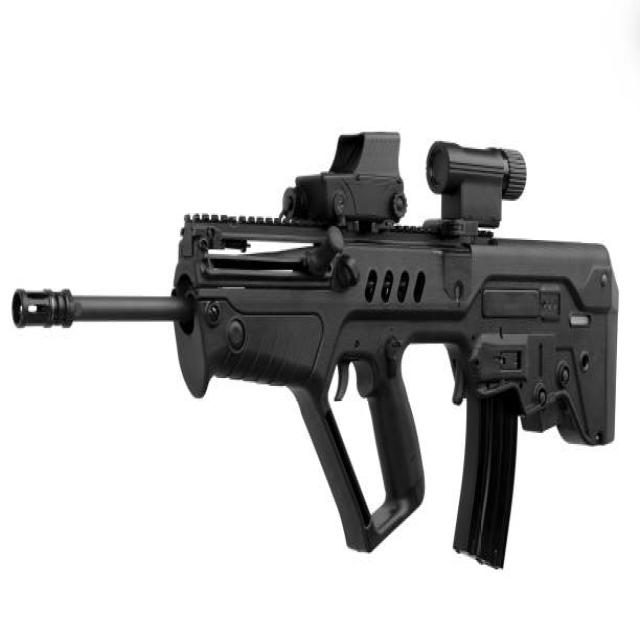rifle: (10, 111, 624, 580)
